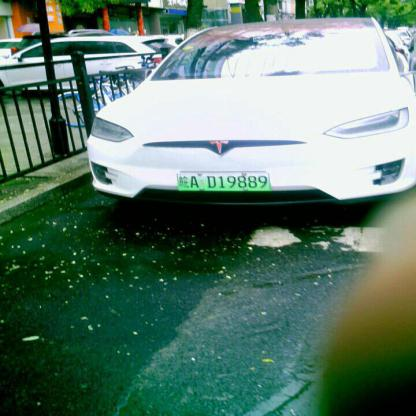lp: (177, 170, 271, 193)
